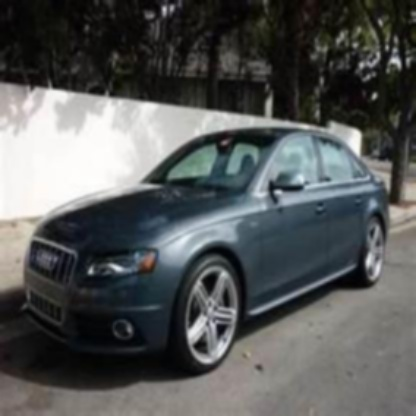Vehicle: (23, 126, 393, 378)
